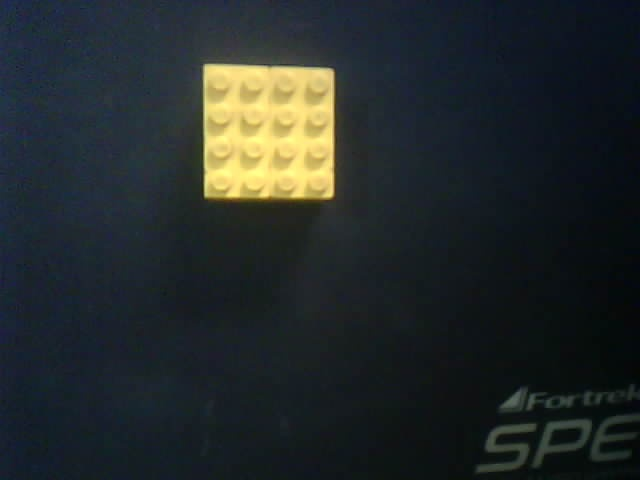lego: (199, 61, 337, 205)
